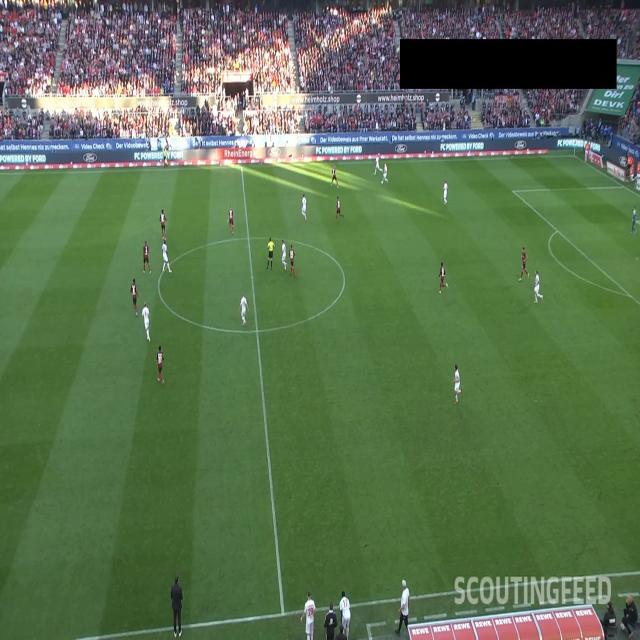ball: (381, 180, 383, 185)
